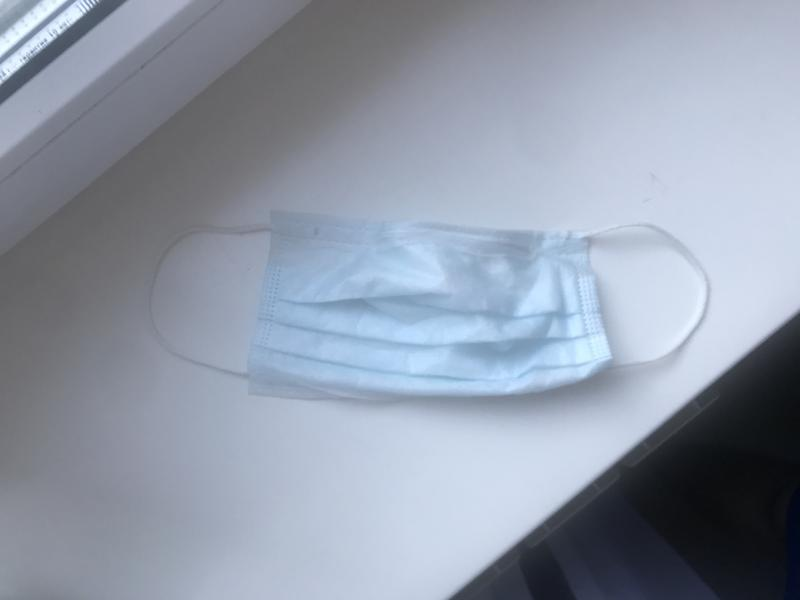medical_mask: (146, 208, 708, 397)
